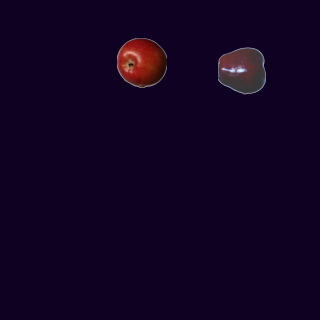Apple Braeburn: (116, 37, 166, 87)
Apple Red Delicious: (217, 45, 267, 95)
